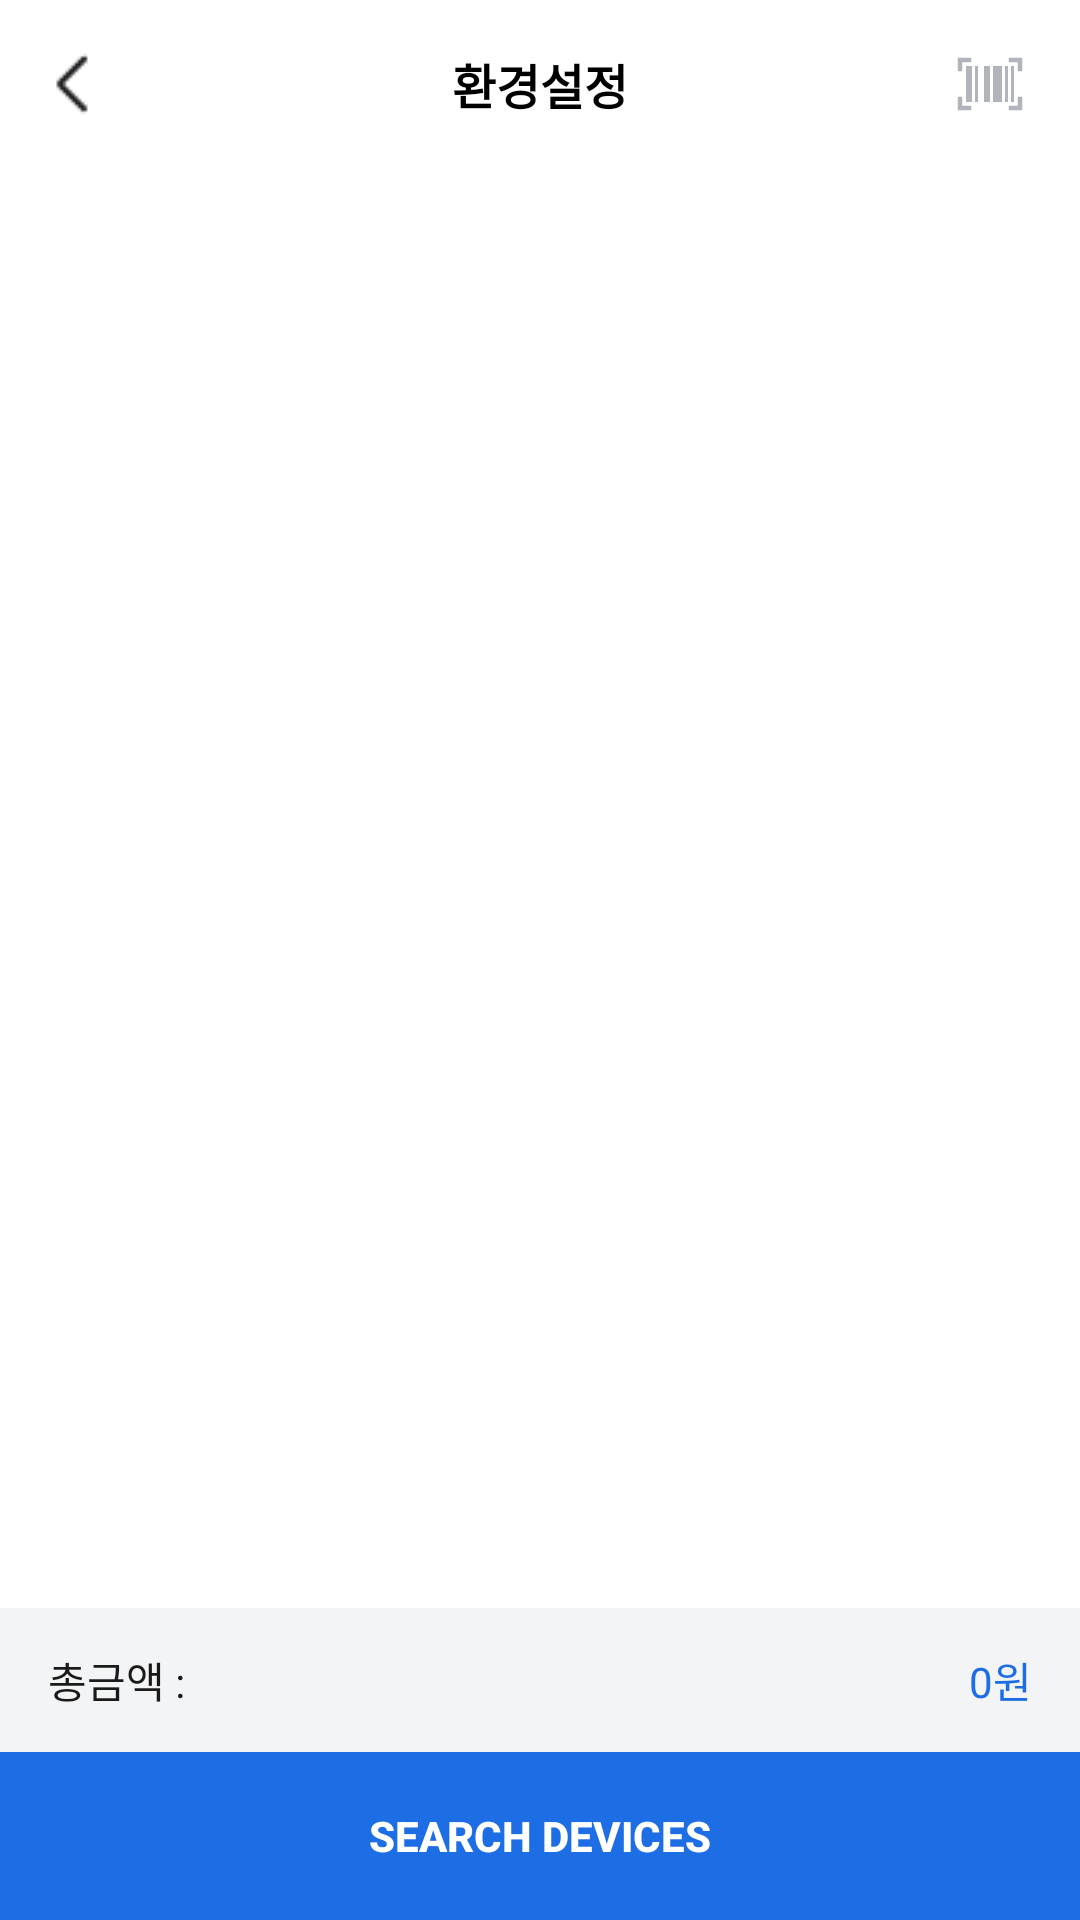

Icons on this 1080 × 1920 Android screen, each with its box as (x1, y1, x2, y2):
arrow back: (56, 55, 88, 113)
scan: (958, 58, 1022, 110)
